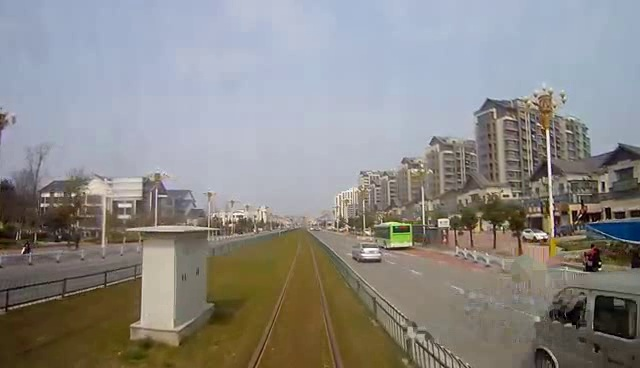bus: (371, 217, 419, 251)
car: (522, 282, 640, 368), (349, 240, 391, 265)
